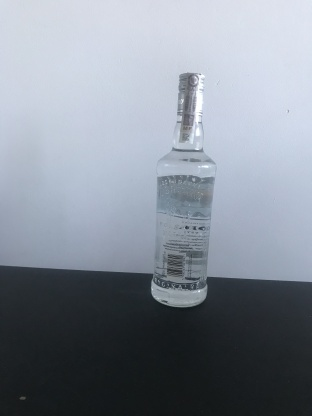nakretka: (174, 69, 207, 119)
